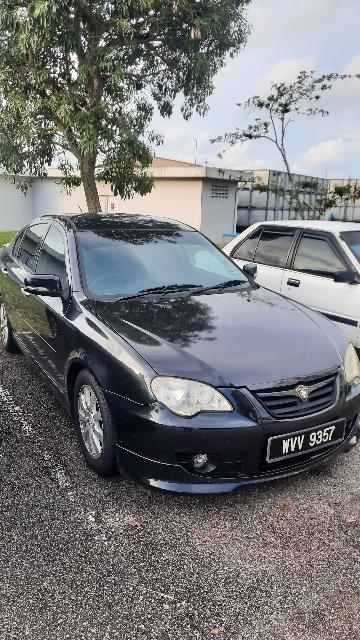License_Plate: (256, 406, 355, 466)
car: (1, 205, 360, 502)
